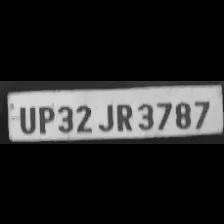2: (73, 100, 93, 132)
3: (134, 98, 154, 130), (55, 100, 73, 132)
7: (192, 97, 212, 129), (152, 97, 172, 128)
8: (171, 97, 191, 128)
J: (95, 99, 113, 130)
P: (35, 102, 55, 132)
R: (114, 100, 132, 130)
U: (15, 102, 36, 132)
